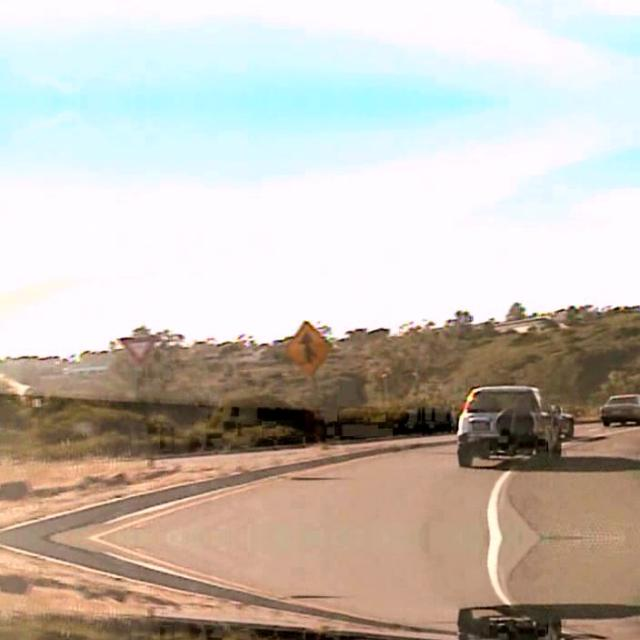yield: (117, 335, 155, 365)
